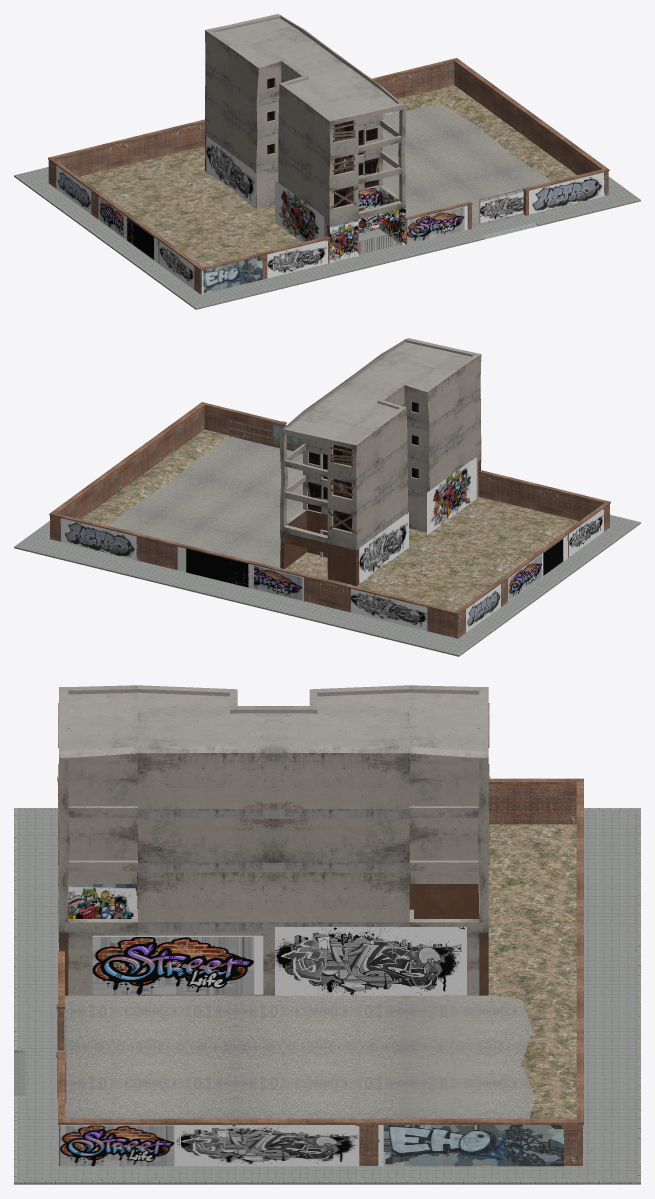
The model's file is old-building.fbx.
The picture shows the model from 3 angles, top to bottom: view 1: azimuth 30°, elevation 25°; view 2: azimuth 150°, elevation 25°; view 3: azimuth 270°, elevation 25°; orthographic projection. The views are drawn at different scales.
Visible parts, largest first — view 1: polySurface81, polySurface80, polySurface86, pPlane1, polySurface83, polySurface56; view 2: polySurface81, polySurface86, polySurface80, pPlane1, polySurface79; view 3: polySurface81, polySurface86, polySurface80, pPlane1.
Part boxes in pixels (<box>): polySurface81: <box>205,14,405,262</box>; polySurface80: <box>48,58,609,294</box>; polySurface86: <box>14,103,640,309</box>; pPlane1: <box>79,85,576,266</box>; polySurface83: <box>479,189,523,223</box>; polySurface56: <box>331,123,380,208</box>; polySurface81: <box>280,338,481,586</box>; polySurface86: <box>14,436,640,656</box>; polySurface80: <box>49,402,610,638</box>; pPlane1: <box>81,429,579,610</box>; polySurface79: <box>305,447,354,532</box>; polySurface81: <box>58,685,488,995</box>; polySurface86: <box>14,808,640,1184</box>; polySurface80: <box>56,778,583,1166</box>; pPlane1: <box>443,824,576,1118</box>.
Size of the model in its own units: 734 by 227 by 520.
